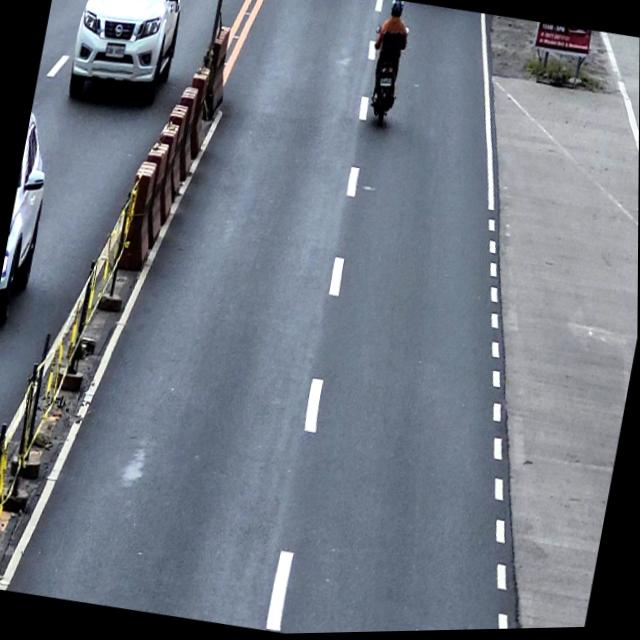Car: (63, 0, 189, 113), (0, 109, 58, 323)
License-Plate: (103, 40, 126, 61), (378, 76, 393, 90)
Motorcycle: (358, 23, 409, 130)
